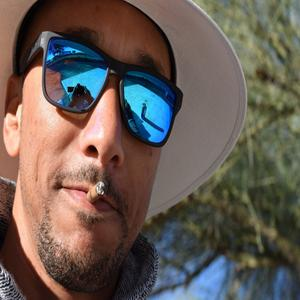cigarette: (85, 180, 107, 208)
